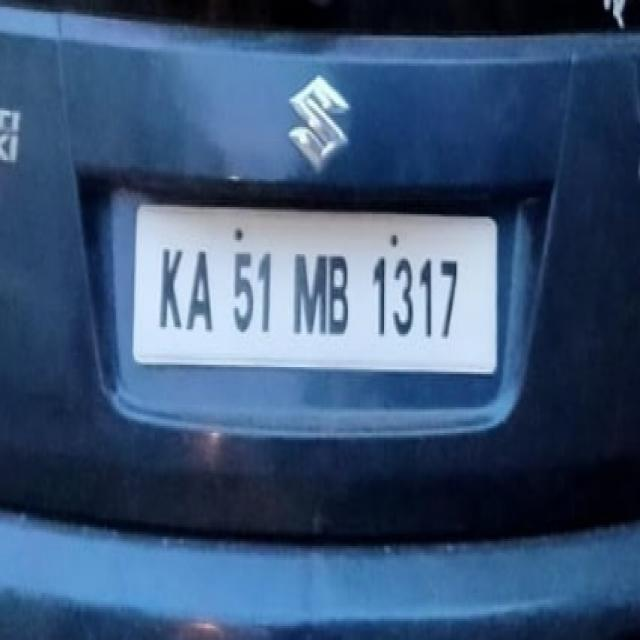1: (368, 247, 389, 339), (255, 244, 275, 338), (416, 252, 434, 342)
3: (388, 258, 418, 338)
5: (225, 230, 258, 339)
7: (437, 255, 463, 342)
A: (185, 238, 214, 340)
B: (328, 244, 351, 342)
K: (153, 230, 182, 343)
M: (292, 248, 329, 336)
